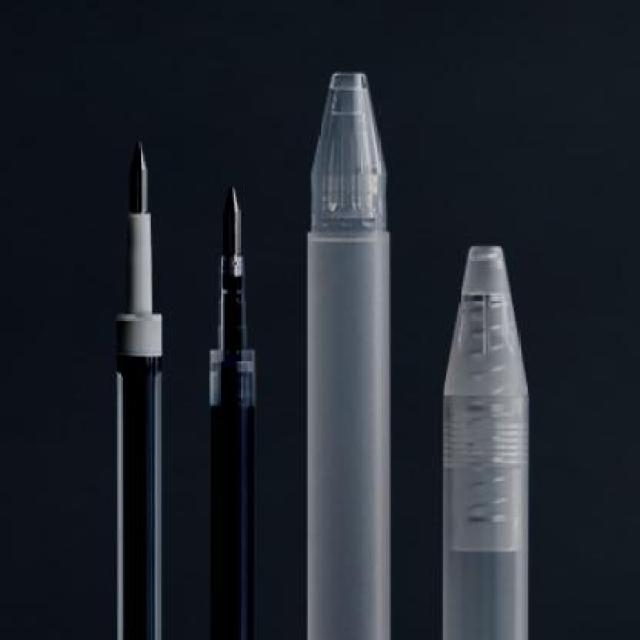pen: (315, 68, 390, 640), (445, 241, 527, 640), (115, 147, 168, 640), (209, 192, 258, 634)
